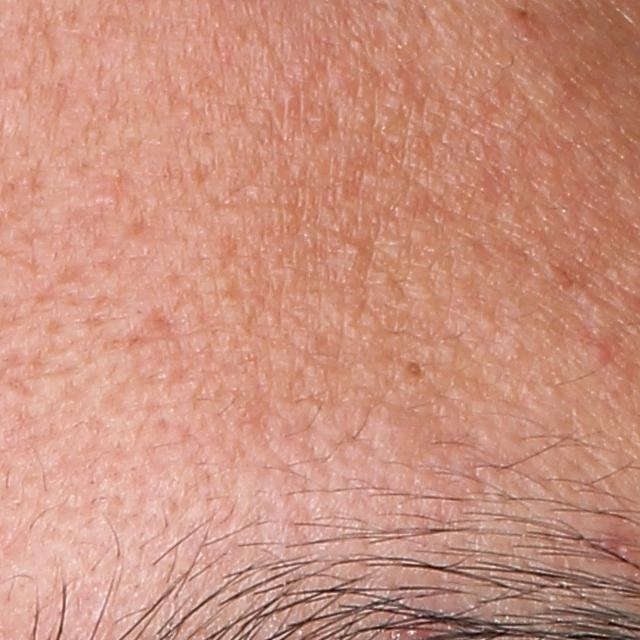comedo: (274, 86, 299, 109), (94, 189, 119, 207), (340, 241, 364, 258)
nevus: (404, 358, 423, 377)
papule: (588, 344, 616, 367)
